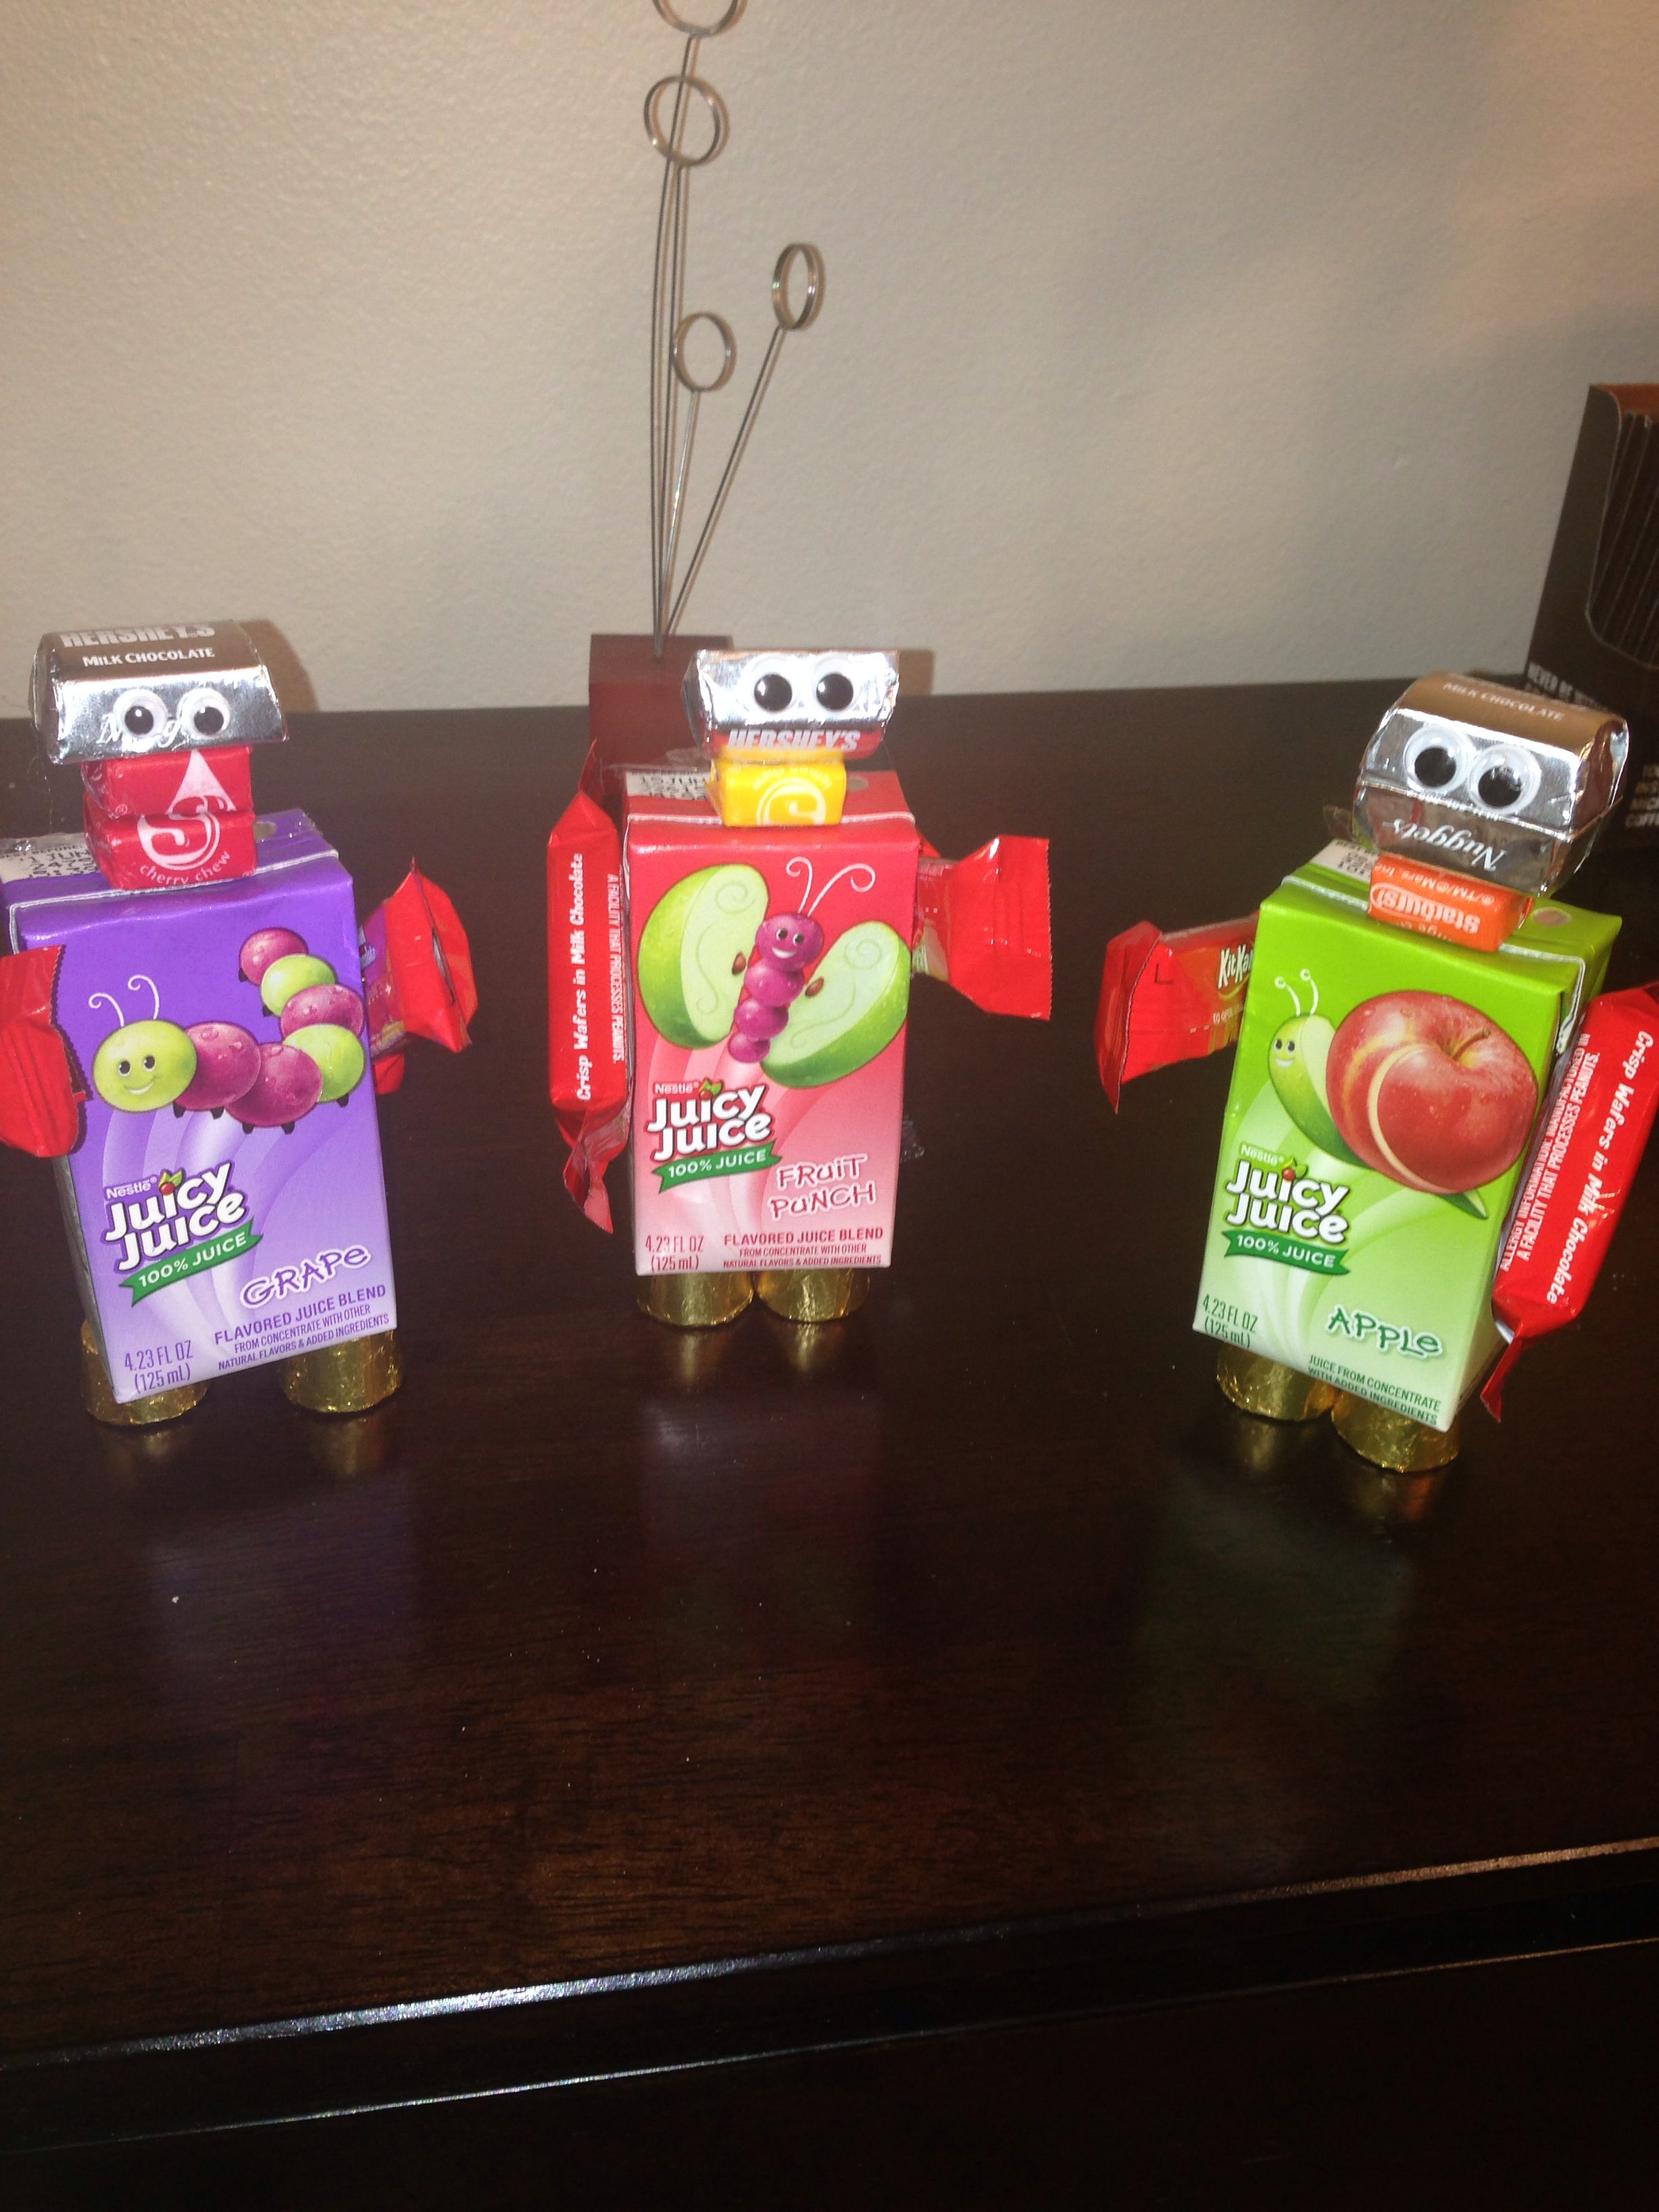Juice_Box: (3, 813, 406, 1400), (1215, 840, 1619, 1421), (601, 782, 906, 1291)
